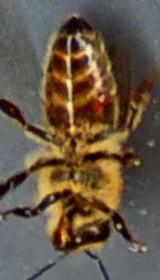varroa_mite: (89, 84, 116, 120)
